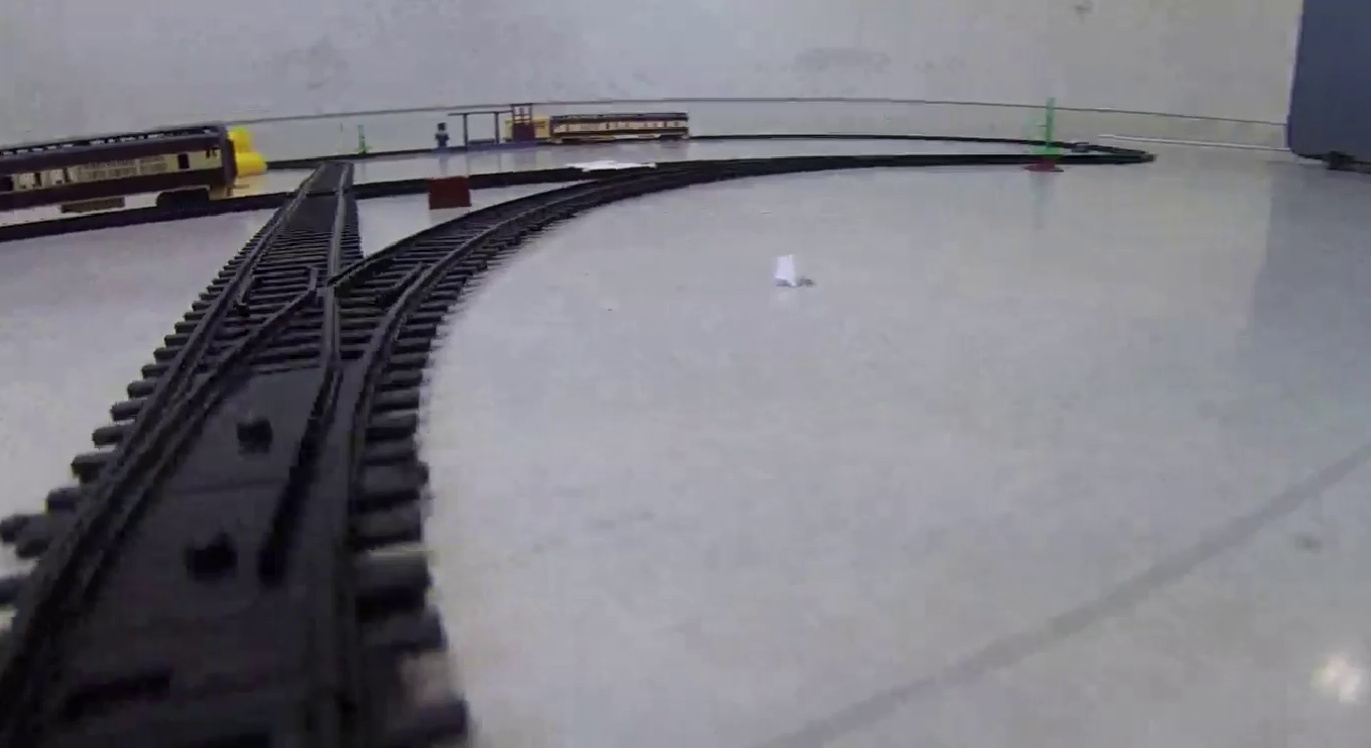box: (429, 179, 470, 205)
tree: (1025, 96, 1065, 171)
